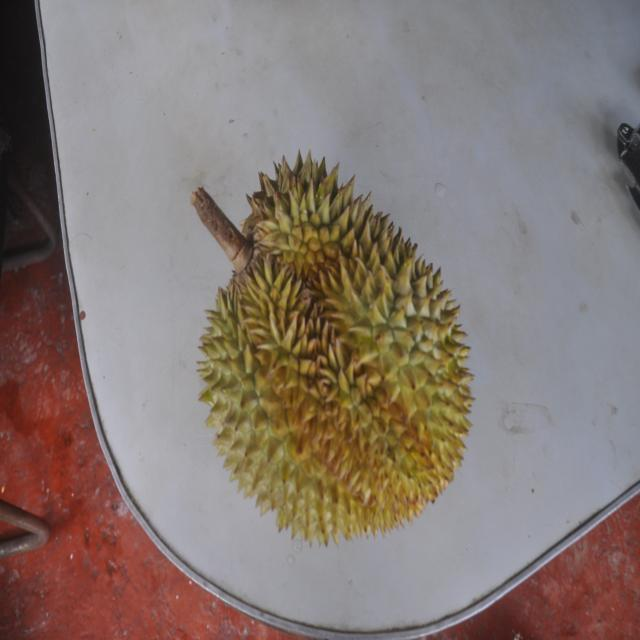mature: (191, 143, 467, 544)
